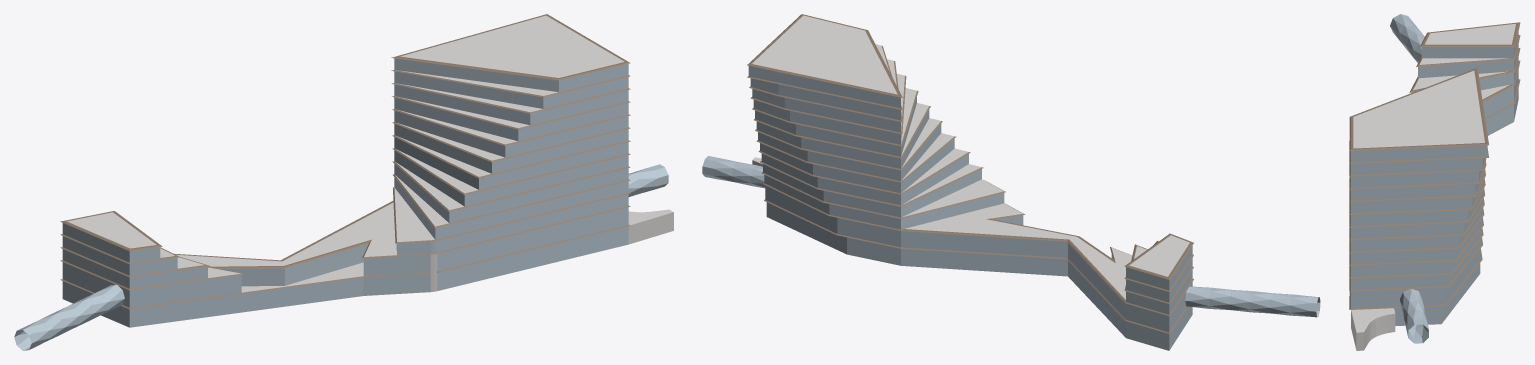
The picture shows the model from 3 angles, left to right: view 1: azimuth 30°, elevation 25°; view 2: azimuth 150°, elevation 25°; view 3: azimuth 270°, elevation 25°; orthographic projection. The views are drawn at different scales.
Parts seen in each view (by area): view 1: 70030076201846811lod; view 2: 70030076201846811lod; view 3: 70030076201846811lod.
Boxes of the visible parts, x1=… form: 70030076201846811lod: x1=14, y1=14, x2=673, y2=350; 70030076201846811lod: x1=702, y1=14, x2=1320, y2=350; 70030076201846811lod: x1=1349, y1=14, x2=1520, y2=350.
Size of the model in its own units: 178 by 47.59 by 41.34.
1 material, 1 textured.
